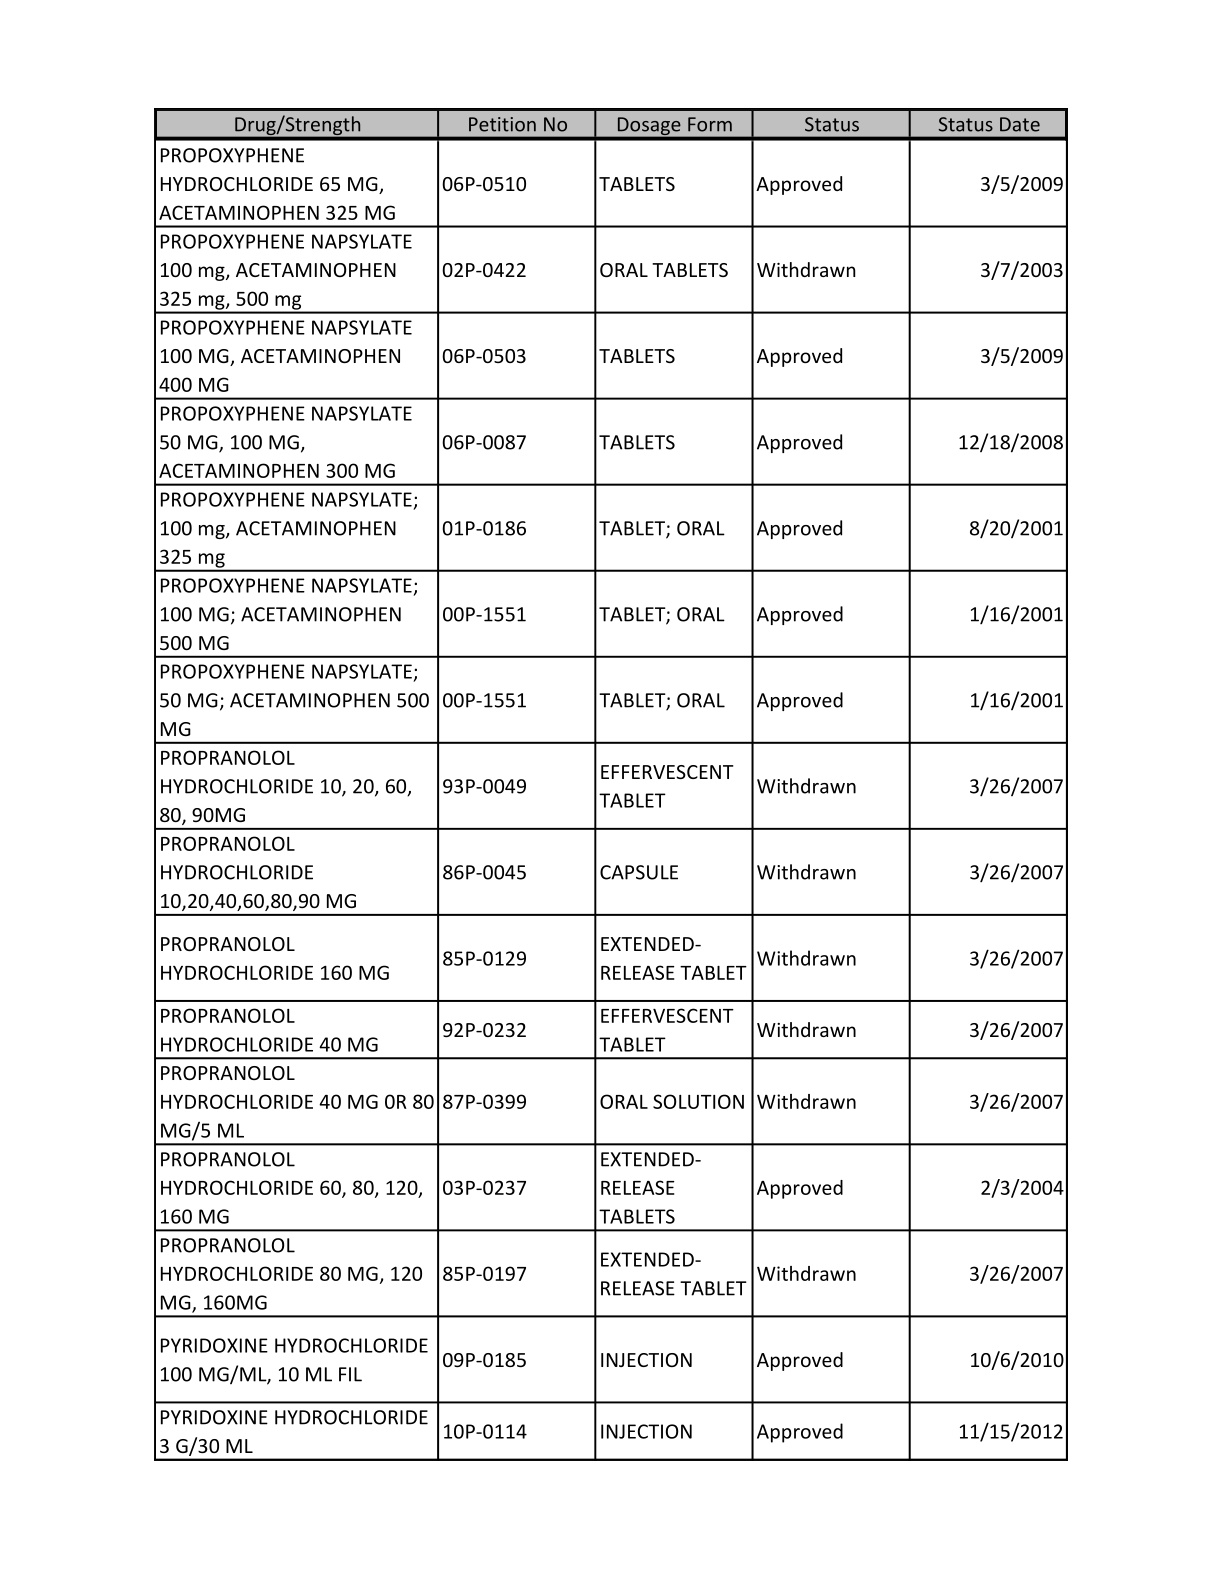full_lined: (154, 108, 1068, 1461)
